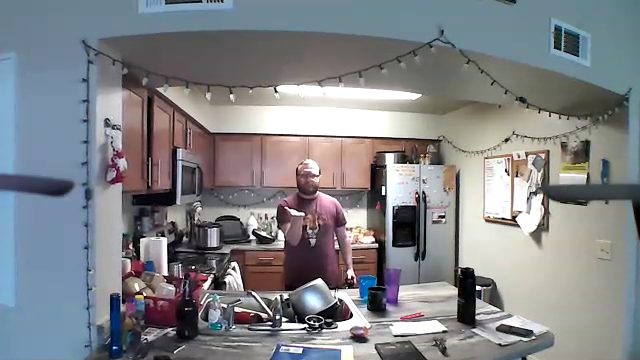land: (277, 204, 310, 218)
